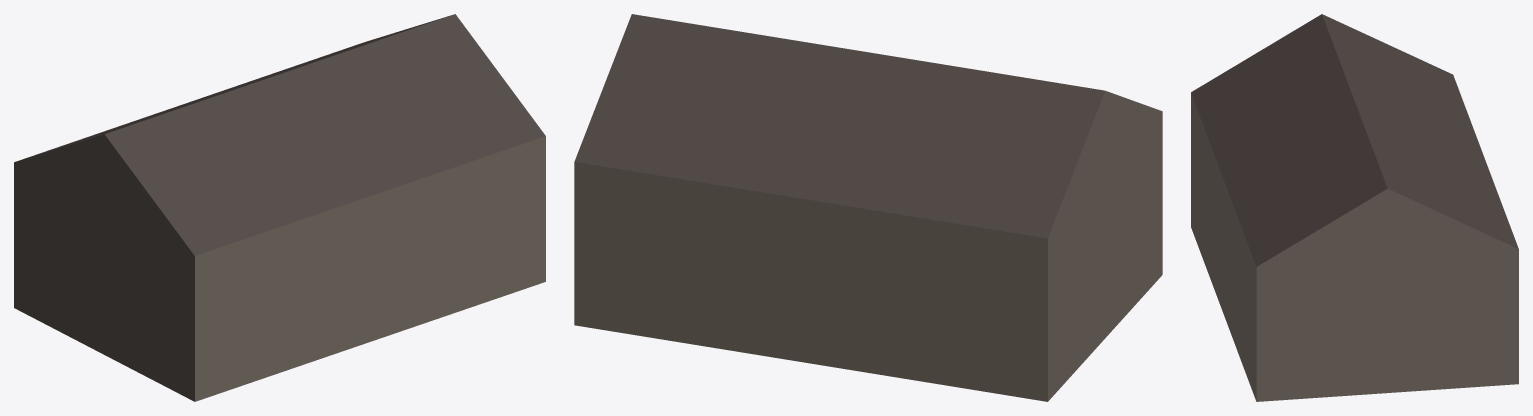
3 renders of one model, left to right at view 1: azimuth 30°, elevation 25°; view 2: azimuth 150°, elevation 25°; view 3: azimuth 270°, elevation 25°, orthographic. The views are drawn at different scales.
Visible parts, largest first — view 1: HP-w1376988729; view 2: HP-w1376988729; view 3: HP-w1376988729.
Boxes of the visible parts, box(x1,y1,x2,y2) form: HP-w1376988729: box(14, 14, 545, 401); HP-w1376988729: box(574, 14, 1162, 401); HP-w1376988729: box(1191, 14, 1518, 401).
Size of the model in its own units: 18.35 by 9.09 by 13.22.
